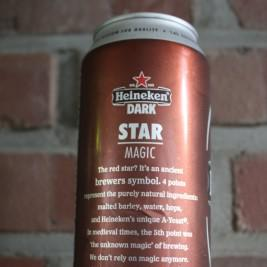beer: (76, 10, 215, 267)
